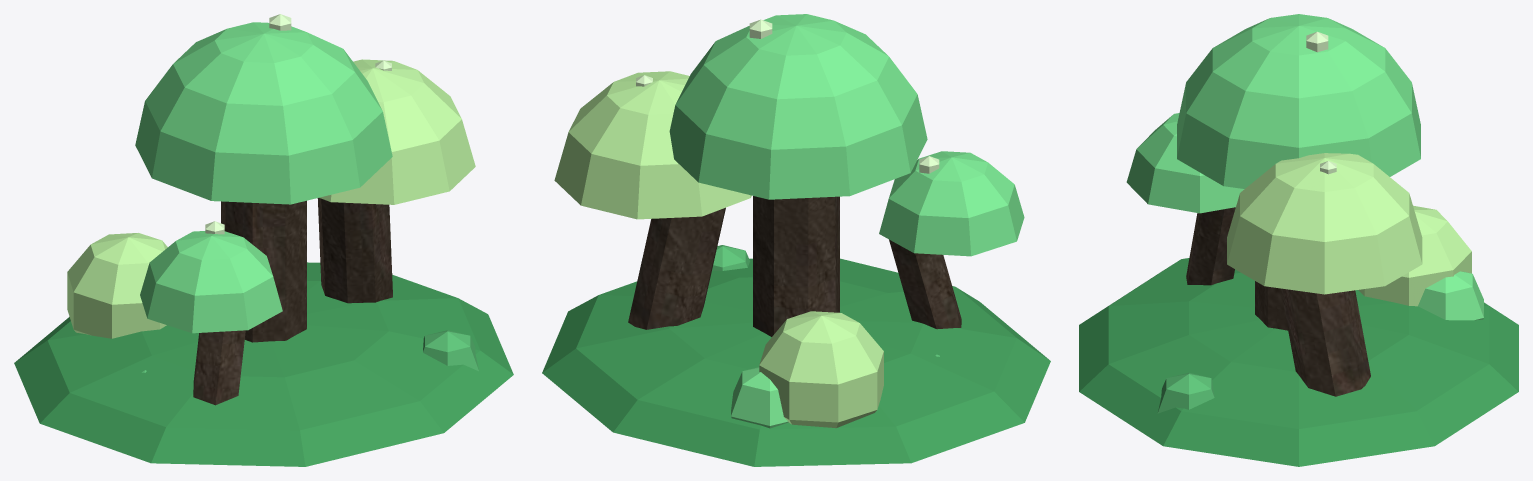
Rendered from biovine.glb.
3 views of the same model, side by side, from view 1: azimuth 30°, elevation 25°; view 2: azimuth 150°, elevation 25°; view 3: azimuth 270°, elevation 25° (orthographic). The views are drawn at different scales.
Visible parts, largest first — view 1: BioBase, Cap_0, Cap_1, Cap_2, Bulb_0, Stem_1, Stem_0, Stem_2, Bump_0; view 2: BioBase, Cap_0, Cap_1, Cap_2, Bulb_0, Stem_0, Stem_1, Stem_2, Bulb_1, Bump_0; view 3: BioBase, Cap_0, Cap_1, Stem_1, Cap_2, Bulb_0, Stem_2, Bulb_1, Bump_0, Stem_0.
Part boxes in pixels (x1,y1,x2,y2): BioBase: (14, 262, 513, 466); Cap_0: (135, 22, 392, 204); Cap_1: (319, 59, 475, 204); Cap_2: (140, 231, 282, 333); Bulb_0: (67, 233, 167, 338); Stem_1: (317, 198, 392, 303); Stem_0: (221, 200, 306, 342); Stem_2: (193, 330, 245, 405); Bump_0: (423, 330, 478, 371); BioBase: (542, 258, 1050, 466); Cap_0: (669, 14, 927, 199); Cap_1: (554, 71, 751, 219); Cap_2: (879, 151, 1024, 256); Bulb_0: (759, 311, 883, 428); Stem_0: (753, 196, 839, 336); Stem_1: (628, 207, 725, 329); Stem_2: (889, 239, 961, 329); Bulb_1: (731, 367, 788, 428); Bump_0: (712, 245, 749, 270); BioBase: (1079, 258, 1518, 466); Cap_0: (1177, 14, 1420, 188); Cap_1: (1227, 153, 1422, 294); Stem_1: (1280, 288, 1370, 396); Cap_2: (1126, 113, 1244, 213); Bulb_0: (1358, 205, 1471, 306); Stem_2: (1186, 207, 1235, 285); Bulb_1: (1418, 271, 1483, 320); Bump_0: (1157, 372, 1214, 413); Stem_0: (1255, 281, 1287, 330).
Bounding box in the file's own units: 1.4 × 1.06 × 1.2.
Materials: 8 (3 with a texture image).
